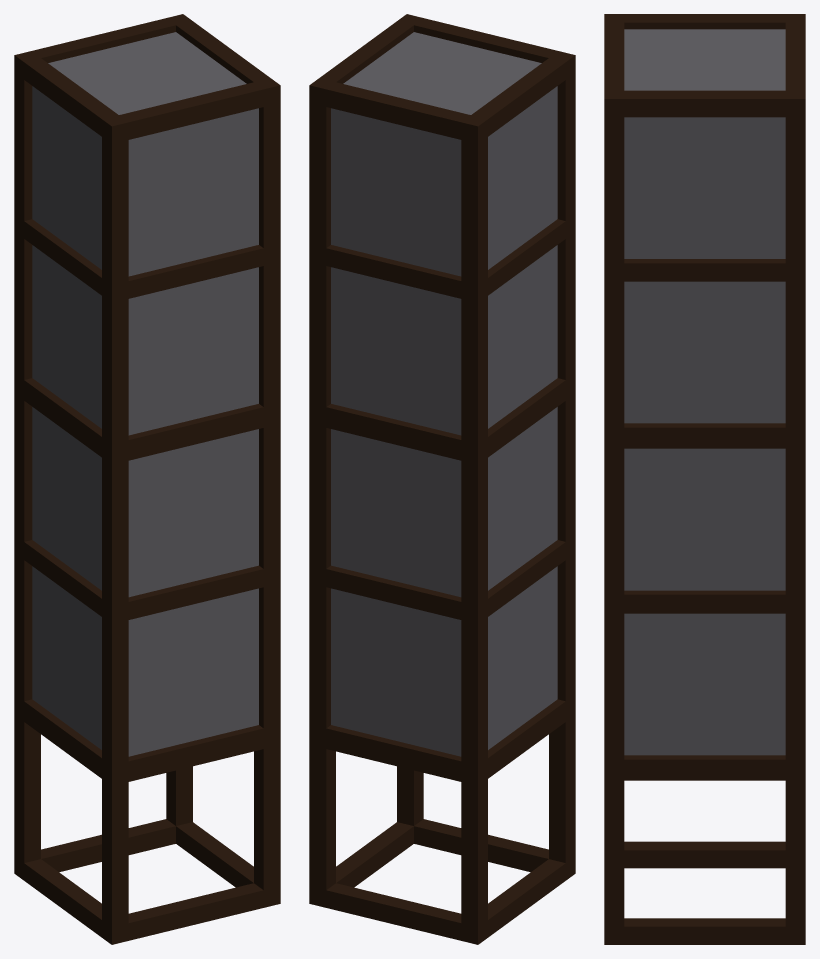
The model's file is pillar1.glb.
The picture shows the model from 3 angles, left to right: view 1: azimuth 30°, elevation 25°; view 2: azimuth 150°, elevation 25°; view 3: azimuth 270°, elevation 25°; orthographic projection. The views are drawn at different scales.
Visible parts, largest first — view 1: metalBox.001; view 2: metalBox.001; view 3: metalBox.001.
Part boxes in pixels (x1,y1,x2,y2): metalBox.001: (14,14,280,944); metalBox.001: (309,14,575,944); metalBox.001: (604,14,805,944).
Size of the model in its own units: 2.01 by 9.32 by 2.01.
